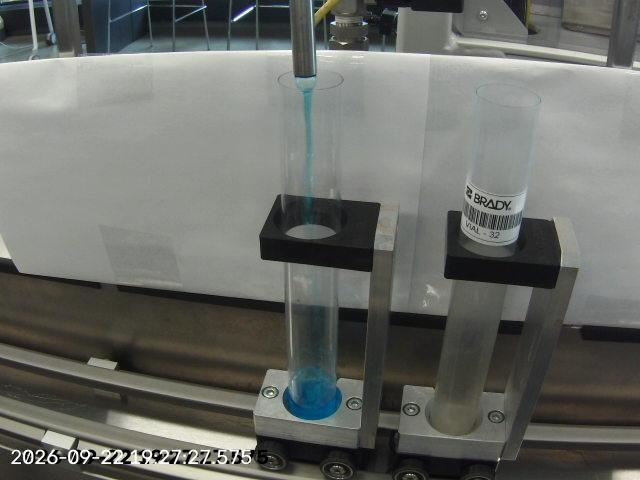vial: (425, 62, 549, 438), (267, 64, 356, 420)
